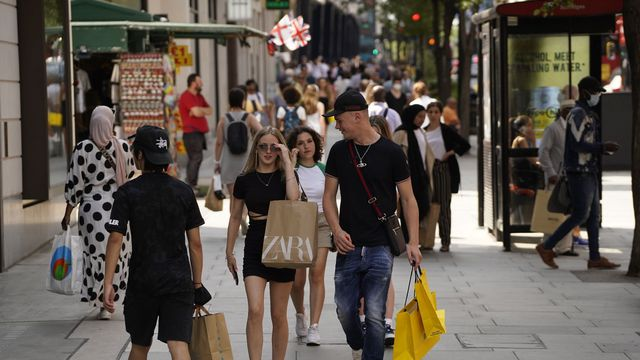without_mask: (257, 138, 278, 164), (335, 114, 356, 139), (295, 135, 316, 157)
